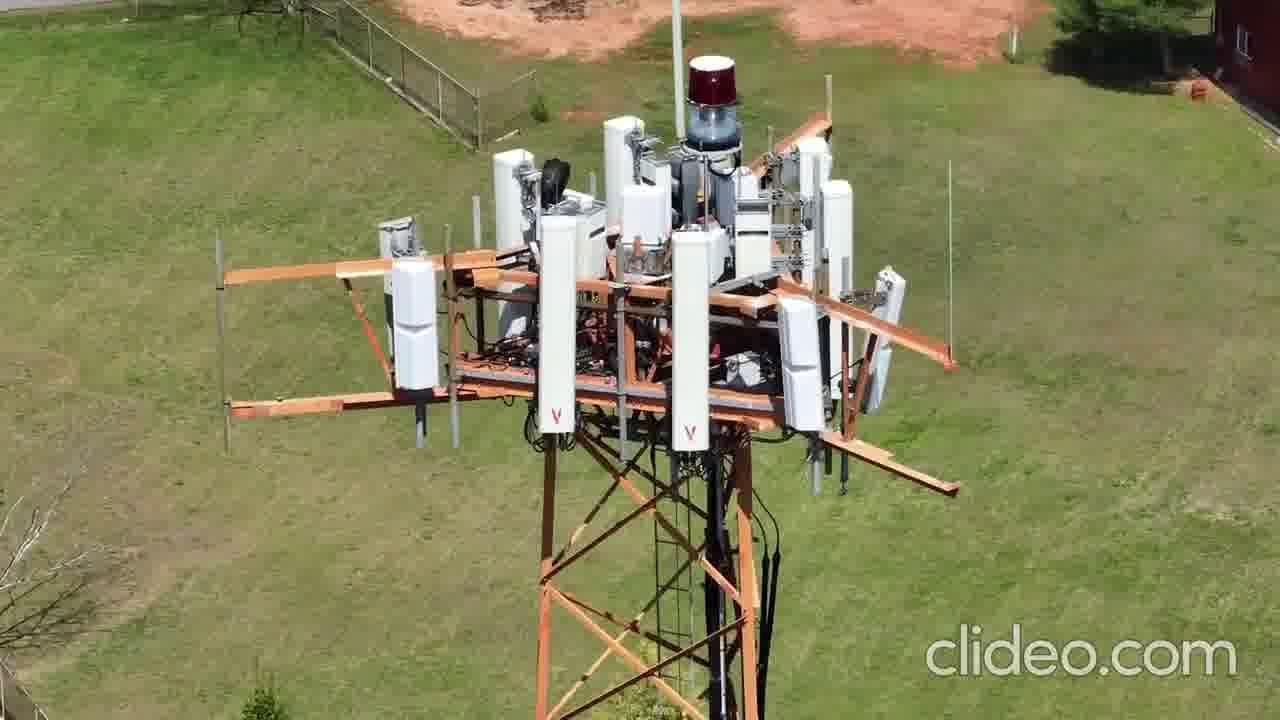antenna: (524, 211, 584, 452), (659, 221, 717, 462), (377, 253, 446, 400), (768, 293, 832, 447), (592, 113, 664, 227), (865, 257, 910, 415), (804, 182, 862, 301), (492, 142, 542, 241), (788, 134, 836, 212)
